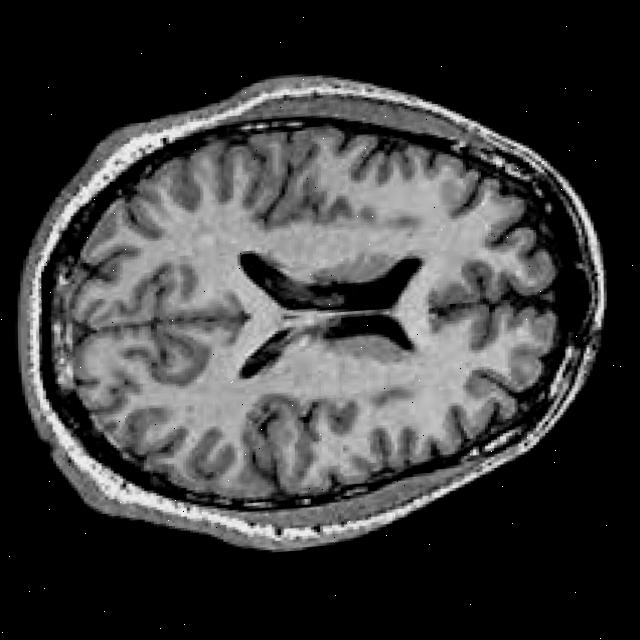NoTumor: (16, 54, 609, 571)
